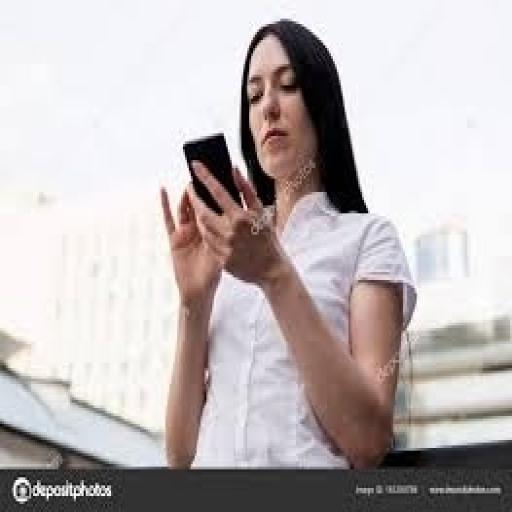texting: (154, 16, 418, 469)
